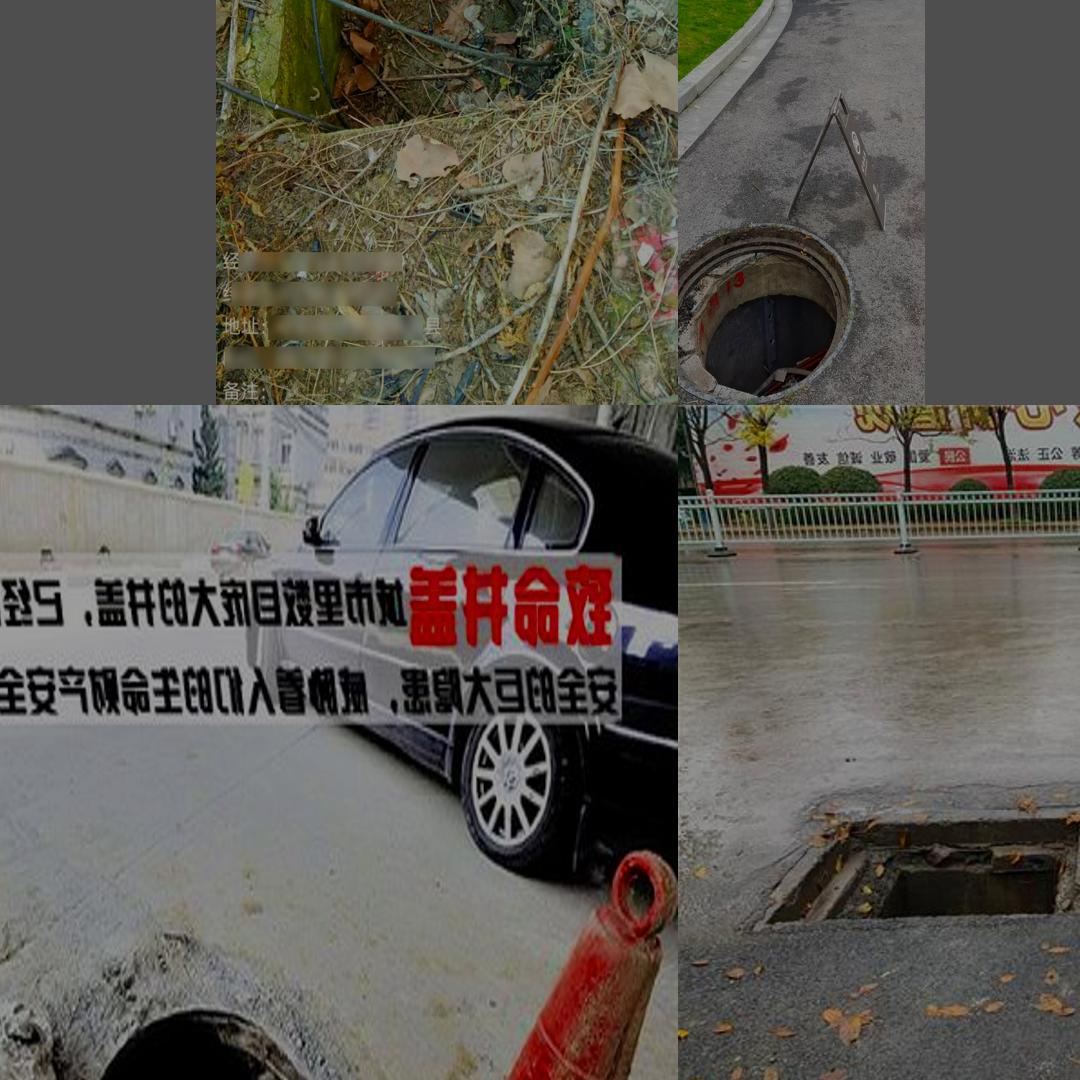lose: (740, 766, 1080, 947), (271, 0, 617, 142), (678, 219, 857, 404), (71, 983, 338, 1080)
